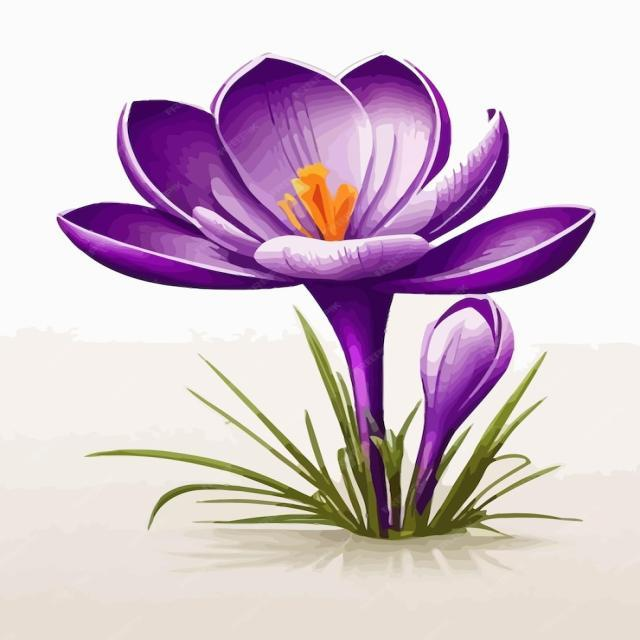Flower: (54, 56, 597, 538)
